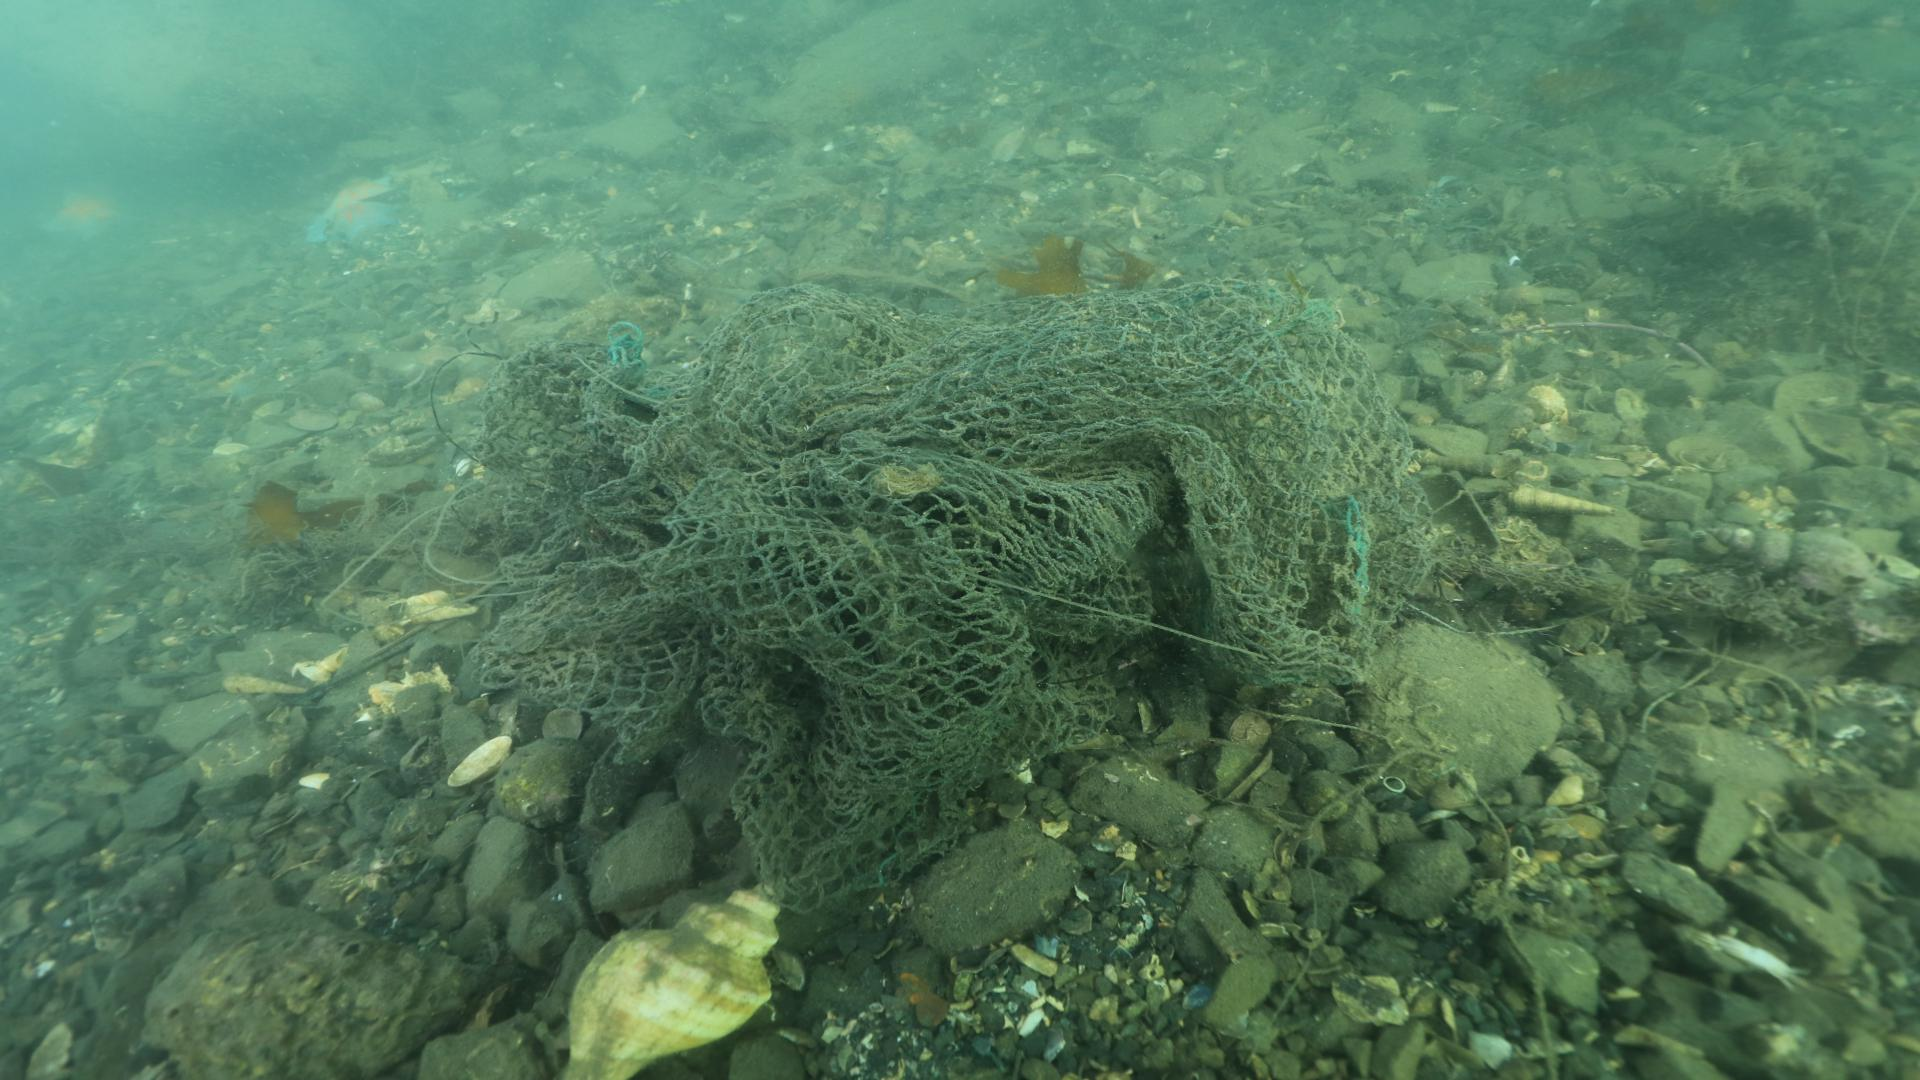fish net: (477, 281, 1431, 909)
